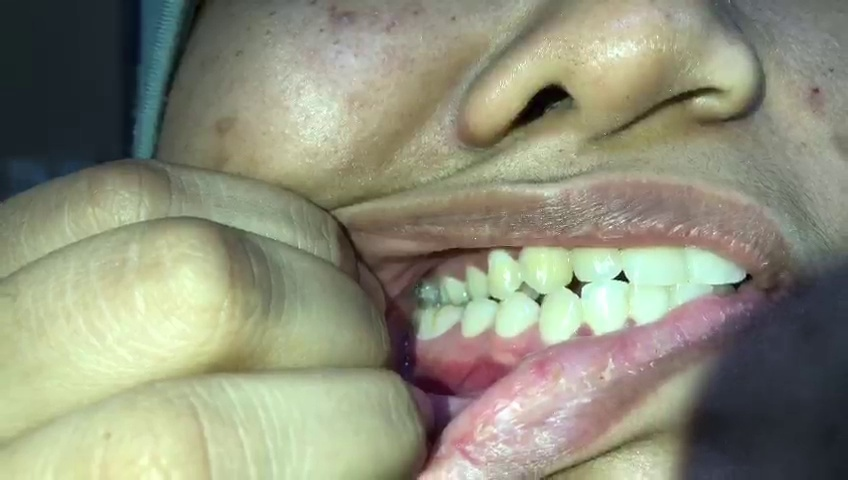1st Molar: (435, 302, 461, 339), (441, 275, 466, 305)
1st Premolar: (495, 291, 538, 340), (487, 250, 524, 299)
2nd Molar: (416, 307, 435, 342), (417, 278, 440, 303)
2nd Premolar: (461, 300, 496, 340), (464, 263, 489, 303)
Canine: (518, 237, 574, 294), (540, 287, 581, 343)
Lateral Incisor: (581, 279, 632, 339)
